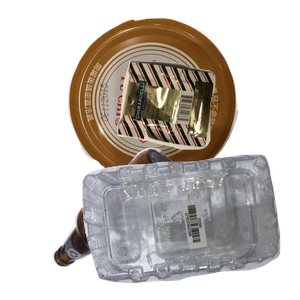glass: (49, 145, 229, 300)
metal: (66, 15, 297, 193)
plastic: (80, 152, 300, 300)
trash: (115, 58, 300, 200)
